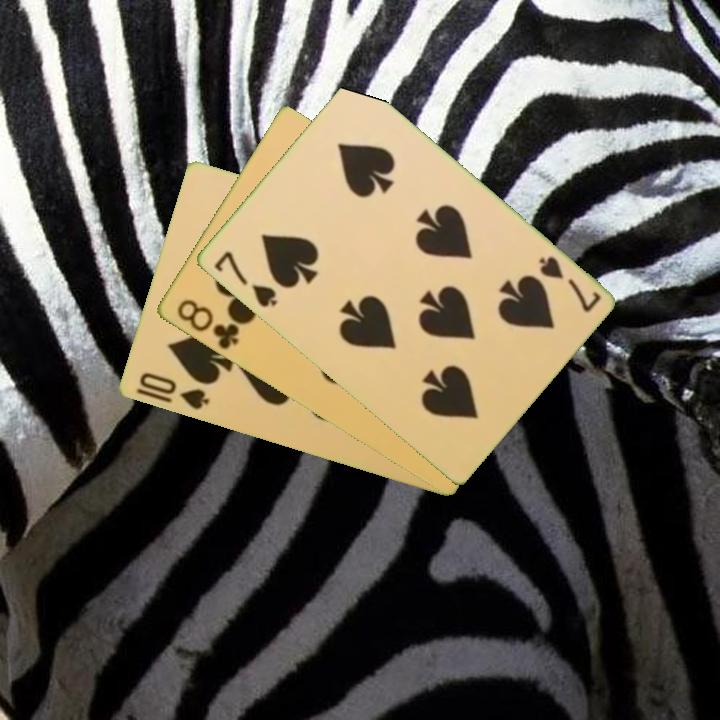10s: (135, 369, 212, 413)
7s: (209, 247, 280, 311), (534, 252, 604, 316)
8c: (172, 295, 242, 353)
